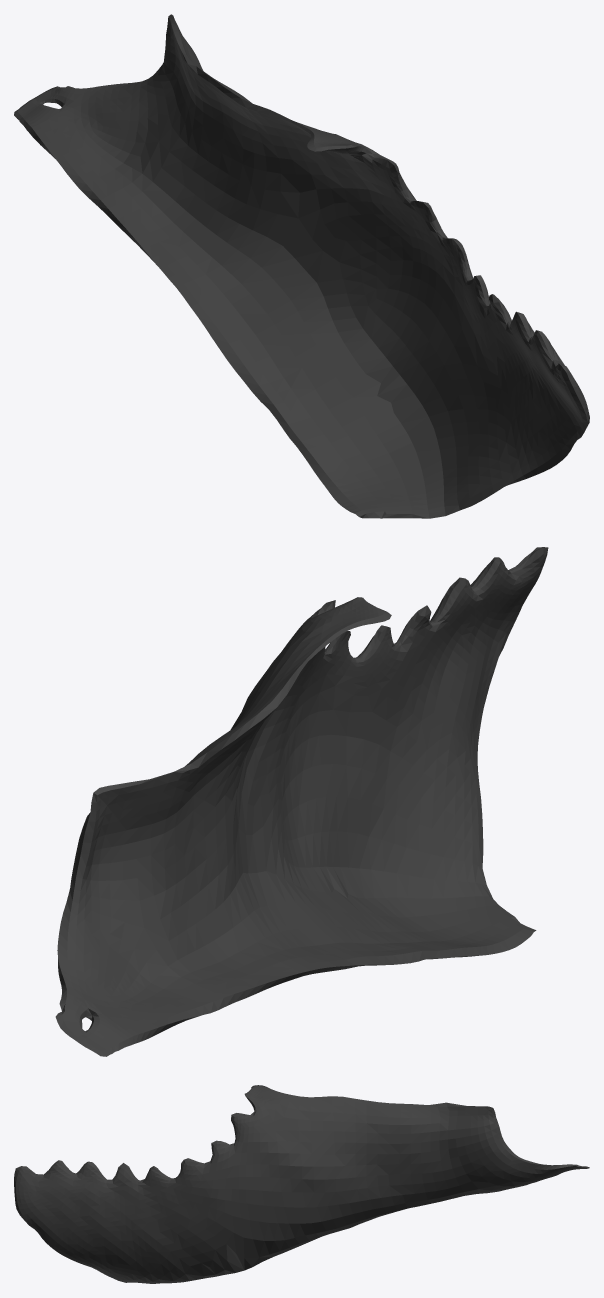
The model's file is EAO.glb.
3 renders of one model, top to bottom at view 1: azimuth 30°, elevation 25°; view 2: azimuth 150°, elevation 25°; view 3: azimuth 270°, elevation 25°, orthographic. The views are drawn at different scales.
Visible parts, largest first — view 1: EAO; view 2: EAO; view 3: EAO.
Part boxes in pixels (x1=…): EAO: x1=14, y1=14, x2=589, y2=518; EAO: x1=55, y1=547, x2=548, y2=1056; EAO: x1=14, y1=1085, x2=589, y2=1283.
Bounding box in the file's own units: 0.4987 × 0.9375 × 2.53.
Materials: 1 (1 with a texture image).
